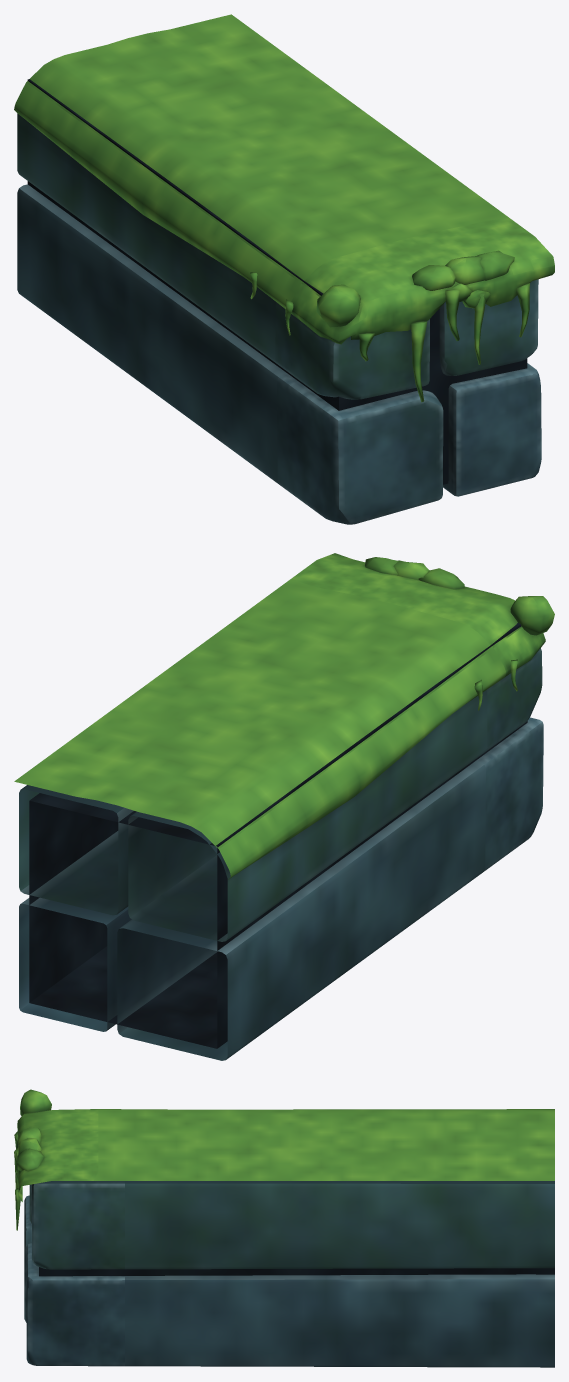
The model's file is ENV_StoneEdge_L.fbx.
3 views of the same model, one above another, from view 1: azimuth 30°, elevation 25°; view 2: azimuth 150°, elevation 25°; view 3: azimuth 270°, elevation 25° (orthographic). The views are drawn at different scales.
Parts seen in each view (by area): view 1: ENV_StoneEdge_L; view 2: ENV_StoneEdge_L; view 3: ENV_StoneEdge_L.
Boxes of the visible parts, x1=… form: ENV_StoneEdge_L: x1=14, y1=14, x2=554, y2=524; ENV_StoneEdge_L: x1=14, y1=553, x2=554, y2=1060; ENV_StoneEdge_L: x1=14, y1=1089, x2=554, y2=1367.
Size of the model in its own units: 1.04 by 1.04 by 2.58.
